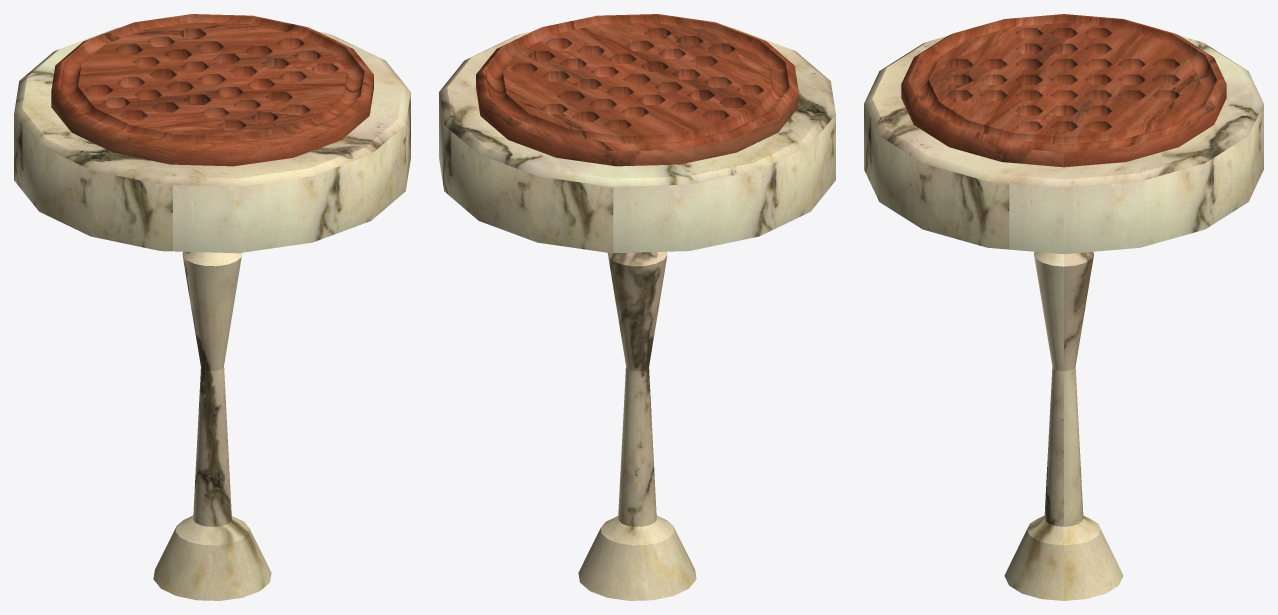
The model's file is solitaire_table.DAE.
3 views of the same model, side by side, from view 1: azimuth 30°, elevation 25°; view 2: azimuth 150°, elevation 25°; view 3: azimuth 270°, elevation 25° (orthographic).
Visible parts, largest first — view 1: solitaire_table, solitaire_board; view 2: solitaire_table, solitaire_board; view 3: solitaire_table, solitaire_board.
Part boxes in pixels (bbox=[...]): solitaire_table: bbox=[14, 27, 410, 600]; solitaire_board: bbox=[51, 14, 373, 166]; solitaire_table: bbox=[439, 27, 835, 600]; solitaire_board: bbox=[476, 14, 798, 166]; solitaire_table: bbox=[864, 36, 1263, 600]; solitaire_board: bbox=[901, 14, 1226, 167].
Bounding box in the file's own units: 0.6207 × 0.6207 × 0.8497.
2 materials, 2 textured.
